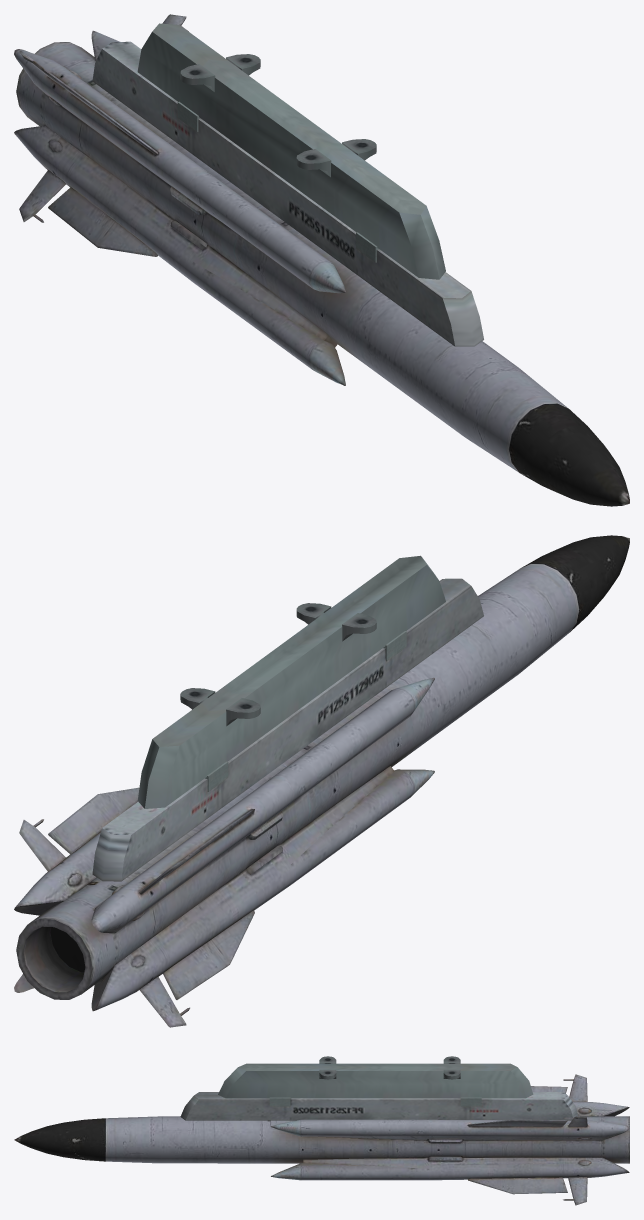
The model's file is weapon_mount_yj91.obj.
The picture shows the model from 3 angles, top to bottom: view 1: azimuth 30°, elevation 25°; view 2: azimuth 150°, elevation 25°; view 3: azimuth 270°, elevation 25°; orthographic projection. The views are drawn at different scales.
Visible parts, largest first — view 1: model_1_0, vehicle#twin_pylon_001_169_2; view 2: model_1_0, vehicle#twin_pylon_001_169_2; view 3: model_1_0, vehicle#twin_pylon_001_169_2.
Boxes of the visible parts, bbox=[...] form: model_1_0: bbox=[14, 14, 629, 506]; vehicle#twin_pylon_001_169_2: bbox=[92, 23, 483, 346]; model_1_0: bbox=[14, 535, 629, 1027]; vehicle#twin_pylon_001_169_2: bbox=[92, 555, 483, 881]; model_1_0: bbox=[14, 1074, 629, 1205]; vehicle#twin_pylon_001_169_2: bbox=[180, 1056, 577, 1120].
Bounding box in the file's own units: 1.06 × 1.37 × 6.46.
